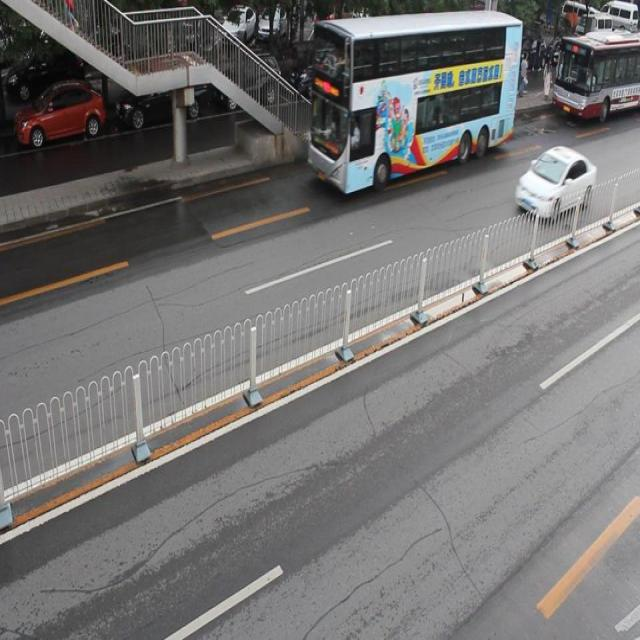car: (15, 75, 107, 144), (515, 143, 594, 221), (118, 62, 207, 122), (289, 38, 360, 92), (221, 46, 280, 104)
van: (306, 12, 521, 192), (550, 31, 640, 119)
